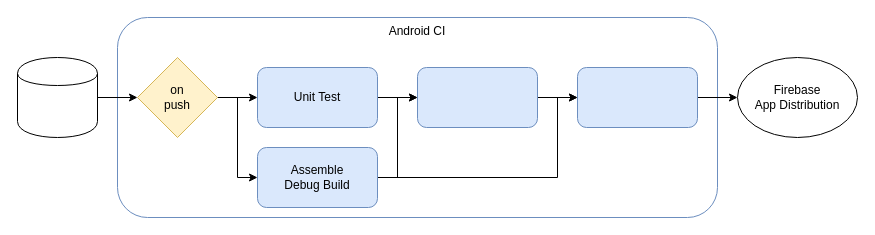
Some shapes in this 875 by 235 pixel diagram are drawn without their labels. The shapes that lost their labels are listed below. From the top down, each one's centre as x and y in pixels, then its label:
[57,97]: master
[477,97]: UI Test (Appium)
[637,97]: Distribute Debug Build
